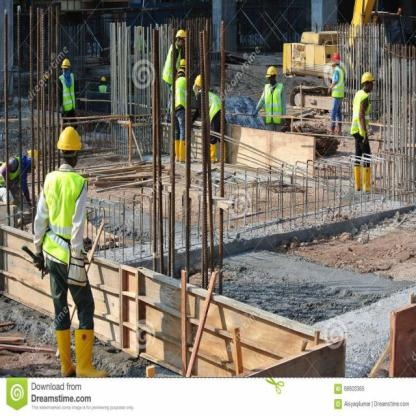red: (329, 51, 342, 64)
vest: (34, 166, 92, 264), (348, 87, 372, 139), (261, 81, 286, 124), (158, 40, 180, 84), (55, 70, 78, 111), (168, 75, 188, 110), (327, 65, 345, 100), (209, 90, 222, 118), (98, 84, 107, 92)
yellow: (53, 124, 85, 152), (358, 69, 376, 84), (263, 63, 278, 77), (61, 57, 72, 68)
